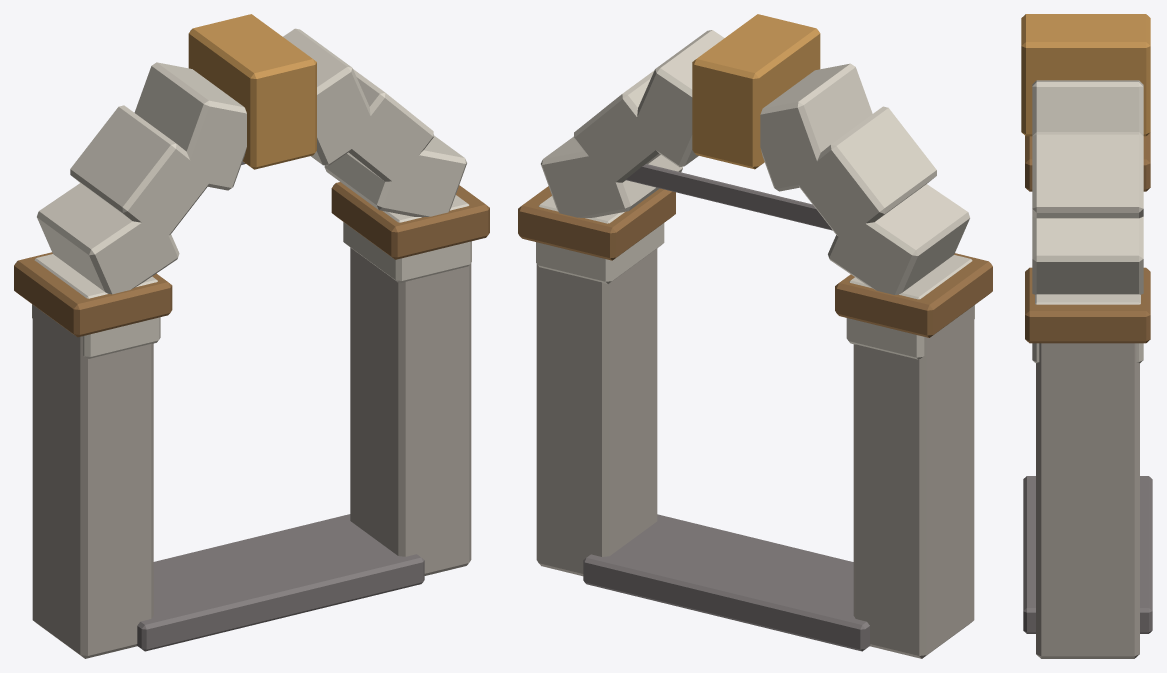
The model's file is arch_doorway.glb.
3 views of the same model, side by side, from view 1: azimuth 30°, elevation 25°; view 2: azimuth 150°, elevation 25°; view 3: azimuth 270°, elevation 25° (orthographic). The views are drawn at different scales.
Visible parts, largest first — view 1: ARCH__pier.001, ARCH__pier, ARCH__threshold, ARCH__keystone, ARCH__voussoir.003, ARCH__voussoir.002, ARCH__voussoir.004, ARCH__springer.001, ARCH__voussoir.008, ARCH__springer, ARCH__voussoir.006, ARCH__voussoir.007 (+2 smaller); view 2: ARCH__pier.001, ARCH__pier, ARCH__threshold, ARCH__keystone, ARCH__voussoir.003, ARCH__voussoir.002, ARCH__voussoir.004, ARCH__springer.001, ARCH__springer, ARCH__voussoir.006, ARCH__voussoir.008, ARCH__voussoir.007 (+3 smaller); view 3: ARCH__pier, ARCH__keystone, ARCH__voussoir.007, ARCH__voussoir.008, ARCH__voussoir.006, ARCH__springer, ARCH__threshold, ARCH__voussoir, ARCH__springer.001.
Boxes of the visible parts, x1=… form: ARCH__pier.001: x1=32, y1=305, x2=153, y2=658; ARCH__pier: x1=350, y1=247, x2=471, y2=575; ARCH__threshold: x1=136, y1=514, x2=424, y2=651; ARCH__keystone: x1=188, y1=14, x2=316, y2=169; ARCH__voussoir.003: x1=70, y1=105, x2=212, y2=240; ARCH__voussoir.002: x1=37, y1=183, x2=179, y2=294; ARCH__voussoir.004: x1=134, y1=62, x2=246, y2=190; ARCH__springer.001: x1=14, y1=252, x2=172, y2=337; ARCH__voussoir.008: x1=324, y1=135, x2=466, y2=217; ARCH__springer: x1=331, y1=182, x2=489, y2=259; ARCH__voussoir.006: x1=283, y1=28, x2=376, y2=165; ARCH__voussoir.007: x1=347, y1=69, x2=433, y2=181; ARCH__pier.001: x1=853, y1=305, x2=974, y2=658; ARCH__pier: x1=536, y1=248, x2=657, y2=576; ARCH__threshold: x1=583, y1=514, x2=870, y2=651; ARCH__keystone: x1=692, y1=14, x2=820, y2=169; ARCH__voussoir.003: x1=795, y1=106, x2=936, y2=240; ARCH__voussoir.002: x1=828, y1=184, x2=969, y2=294; ARCH__voussoir.004: x1=760, y1=63, x2=872, y2=191; ARCH__springer.001: x1=835, y1=253, x2=992, y2=337; ARCH__springer: x1=518, y1=186, x2=675, y2=260; ARCH__voussoir.006: x1=631, y1=30, x2=724, y2=167; ARCH__voussoir.008: x1=541, y1=136, x2=682, y2=217; ARCH__voussoir.007: x1=574, y1=70, x2=660, y2=184; ARCH__pier: x1=1036, y1=343, x2=1139, y2=658; ARCH__keystone: x1=1021, y1=14, x2=1150, y2=136; ARCH__voussoir.007: x1=1032, y1=132, x2=1143, y2=218; ARCH__voussoir.008: x1=1032, y1=216, x2=1143, y2=294; ARCH__voussoir.006: x1=1032, y1=80, x2=1143, y2=135; ARCH__springer: x1=1025, y1=267, x2=1150, y2=343; ARCH__threshold: x1=1023, y1=476, x2=1152, y2=633; ARCH__voussoir: x1=1032, y1=294, x2=1143, y2=363; ARCH__springer.001: x1=1025, y1=132, x2=1150, y2=191.
Size of the model in its own units: 2.62 by 3.32 by 0.73.
